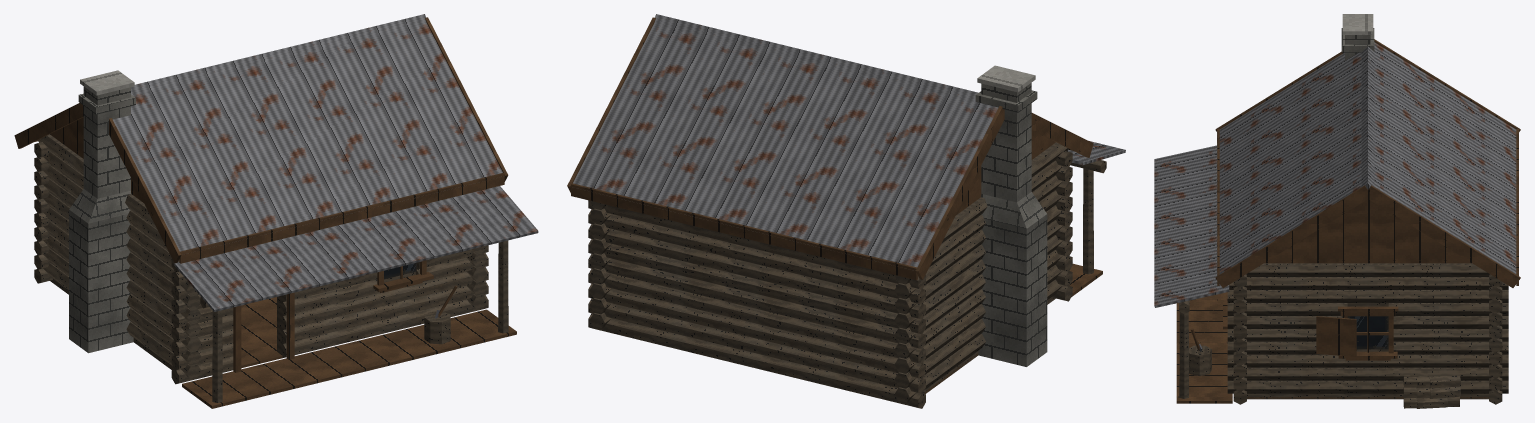
The model's file is cabin.glb.
3 views of the same model, side by side, from view 1: azimuth 30°, elevation 25°; view 2: azimuth 150°, elevation 25°; view 3: azimuth 270°, elevation 25° (orthographic). The views are drawn at different scales.
Visible parts, largest first — view 1: detail, shell-col; view 2: detail, shell-col; view 3: detail, shell-col.
Boxes of the visible parts, x1=… form: detail: x1=14, y1=14, x2=538, y2=408; shell-col: x1=50, y1=133, x2=415, y2=370; detail: x1=567, y1=14, x2=1125, y2=408; shell-col: x1=923, y1=141, x2=1055, y2=393; detail: x1=1154, y1=14, x2=1520, y2=408; shell-col: x1=1247, y1=260, x2=1488, y2=399.
Size of the model in its own units: 7.51 by 5.18 by 7.17.
Materials: 12 (12 with a texture image).
